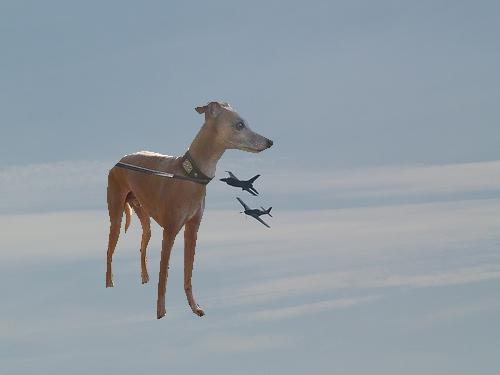tampered: (107, 103, 273, 319)
